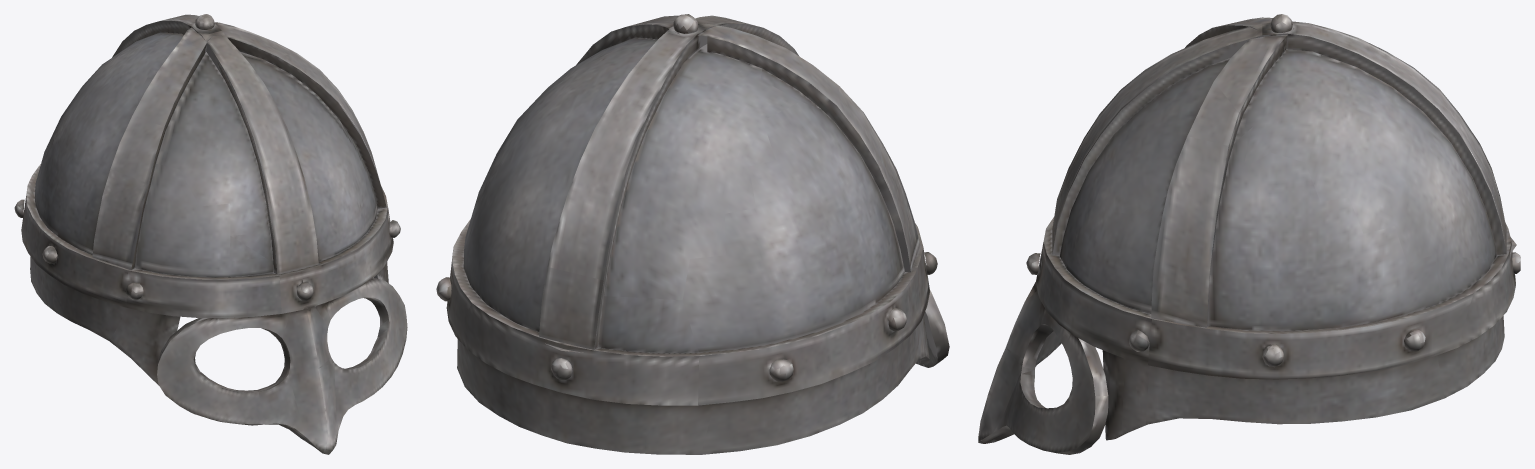
File: item_mm9_10125.glb
3 renders of one model, left to right at view 1: azimuth 30°, elevation 25°; view 2: azimuth 150°, elevation 25°; view 3: azimuth 270°, elevation 25°, orthographic. The views are drawn at different scales.
Parts seen in each view (by area): view 1: d10125; view 2: d10125; view 3: d10125.
Part boxes in pixels (box(x1,y1,x2,y2)): d10125: box(14, 14, 407, 454); d10125: box(436, 14, 949, 454); d10125: box(978, 14, 1520, 454).
Bounding box in the file's own units: 0.8628 × 0.8701 × 1.
1 material, 1 textured.
